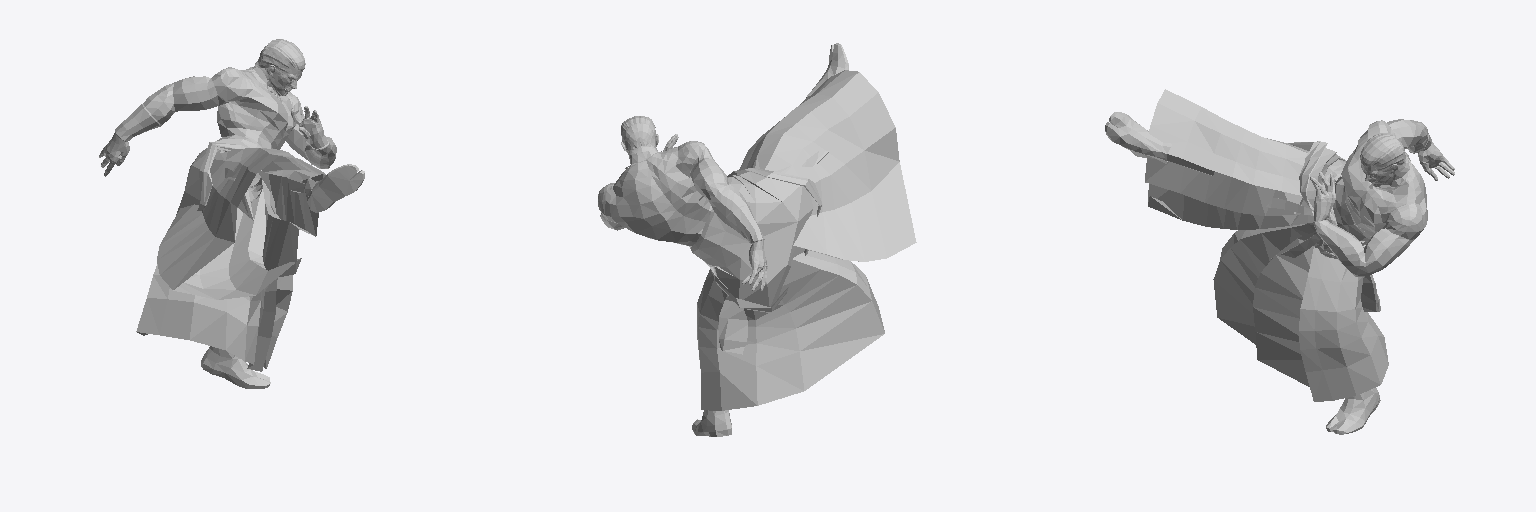
The model's file is geese_attack_000033.obj.
3 renders of one model, left to right at view 1: azimuth 30°, elevation 25°; view 2: azimuth 150°, elevation 25°; view 3: azimuth 270°, elevation 25°, orthographic.
Parts seen in each view (by area): view 1: GamemodelShape1.002, hairShape; view 2: GamemodelShape1.002, hairShape; view 3: GamemodelShape1.002, hairShape.
Boxes of the visible parts, x1=… form: GamemodelShape1.002: x1=99, y1=65, x2=364, y2=388; hairShape: x1=255, y1=39, x2=305, y2=74; GamemodelShape1.002: x1=598, y1=43, x2=916, y2=436; hairShape: x1=621, y1=116, x2=656, y2=154; GamemodelShape1.002: x1=1105, y1=89, x2=1454, y2=434; hairShape: x1=1360, y1=133, x2=1407, y2=171.
Bounding box in the file's own units: 3.54 × 4.51 × 4.53.